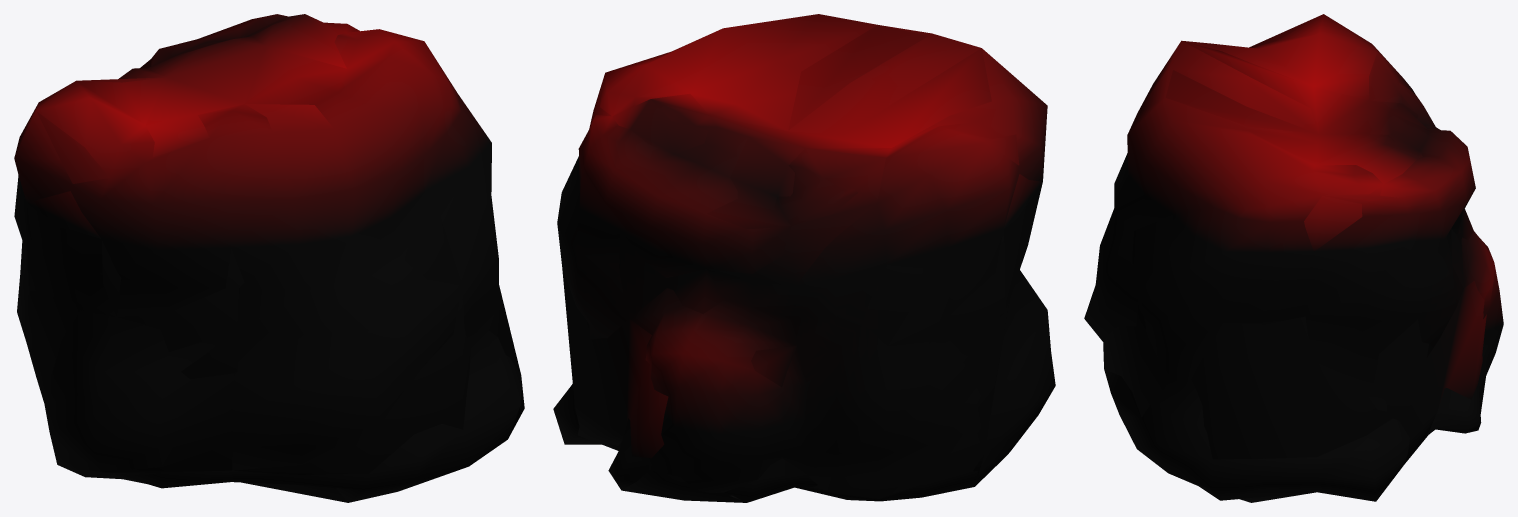
File: JD_Cave_A_Rock_02.fbx
3 views of the same model, side by side, from view 1: azimuth 30°, elevation 25°; view 2: azimuth 150°, elevation 25°; view 3: azimuth 270°, elevation 25° (orthographic). The views are drawn at different scales.
Parts seen in each view (by area): view 1: JD_Cave_A_Rock_02, C_JD_Cave_A_Rock_02; view 2: JD_Cave_A_Rock_02, C_JD_Cave_A_Rock_02; view 3: JD_Cave_A_Rock_02, C_JD_Cave_A_Rock_02.
Boxes of the visible parts, box(x1,y1,x2,y2) form: JD_Cave_A_Rock_02: box(14, 14, 524, 502); C_JD_Cave_A_Rock_02: box(24, 14, 520, 502); JD_Cave_A_Rock_02: box(553, 14, 1055, 502); C_JD_Cave_A_Rock_02: box(562, 25, 1042, 502); JD_Cave_A_Rock_02: box(1084, 14, 1503, 502); C_JD_Cave_A_Rock_02: box(1103, 14, 1486, 500).
Bounding box in the file's own units: 6.57 × 5.78 × 6.32.
